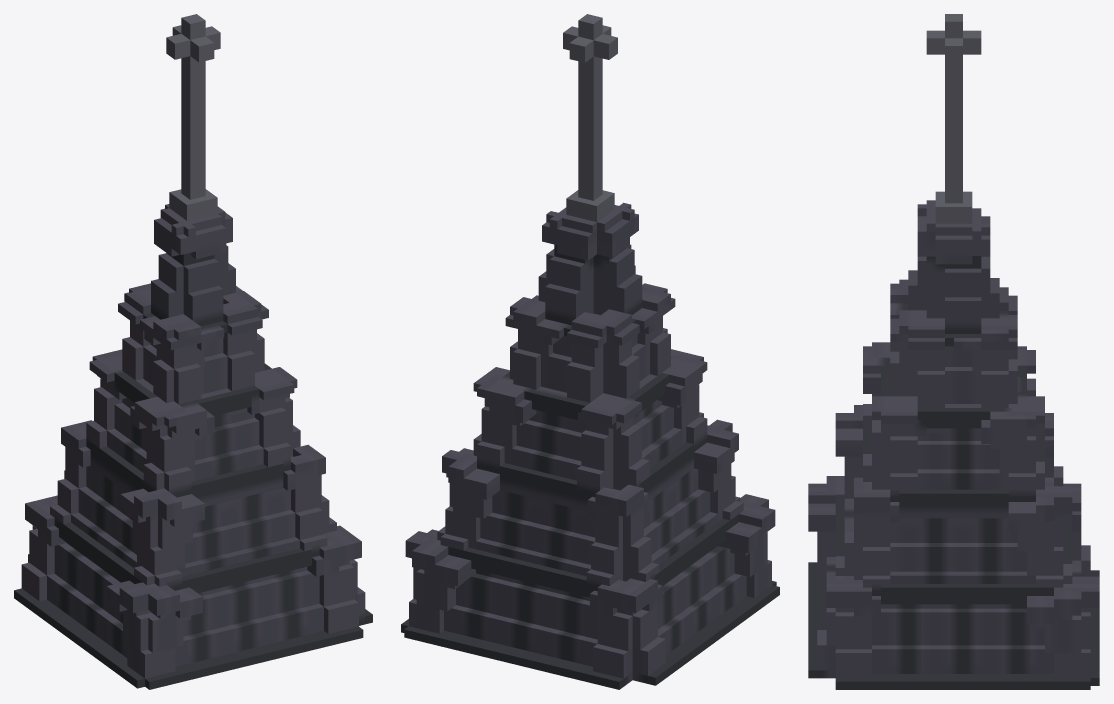
Rendered from TowerRooftop-1.fbx.
3 renders of one model, left to right at view 1: azimuth 30°, elevation 25°; view 2: azimuth 150°, elevation 25°; view 3: azimuth 270°, elevation 25°, orthographic. The views are drawn at different scales.
Visible parts, largest first — view 1: TowerRooftop-1; view 2: TowerRooftop-1; view 3: TowerRooftop-1.
Part boxes in pixels (<box>): TowerRooftop-1: <box>14,14,372,689</box>; TowerRooftop-1: <box>401,14,779,689</box>; TowerRooftop-1: <box>808,14,1099,689</box>.
Size of the model in its own units: 160 by 370 by 160.
